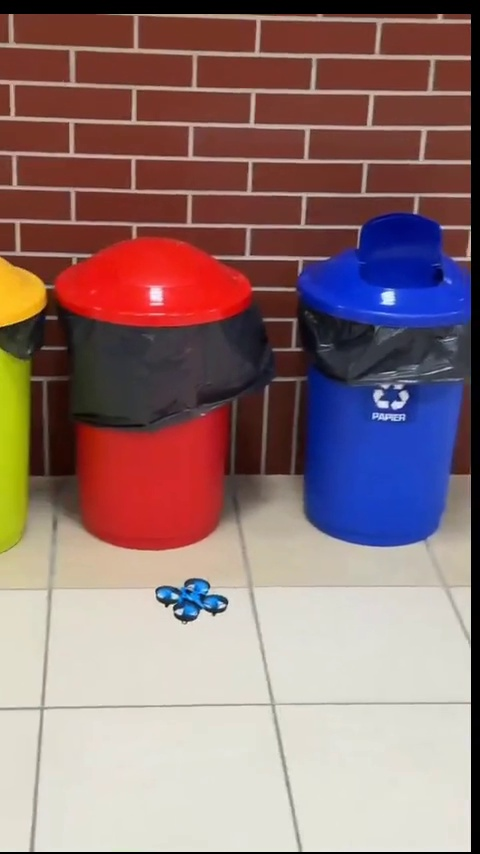drone: (151, 576, 226, 622)
